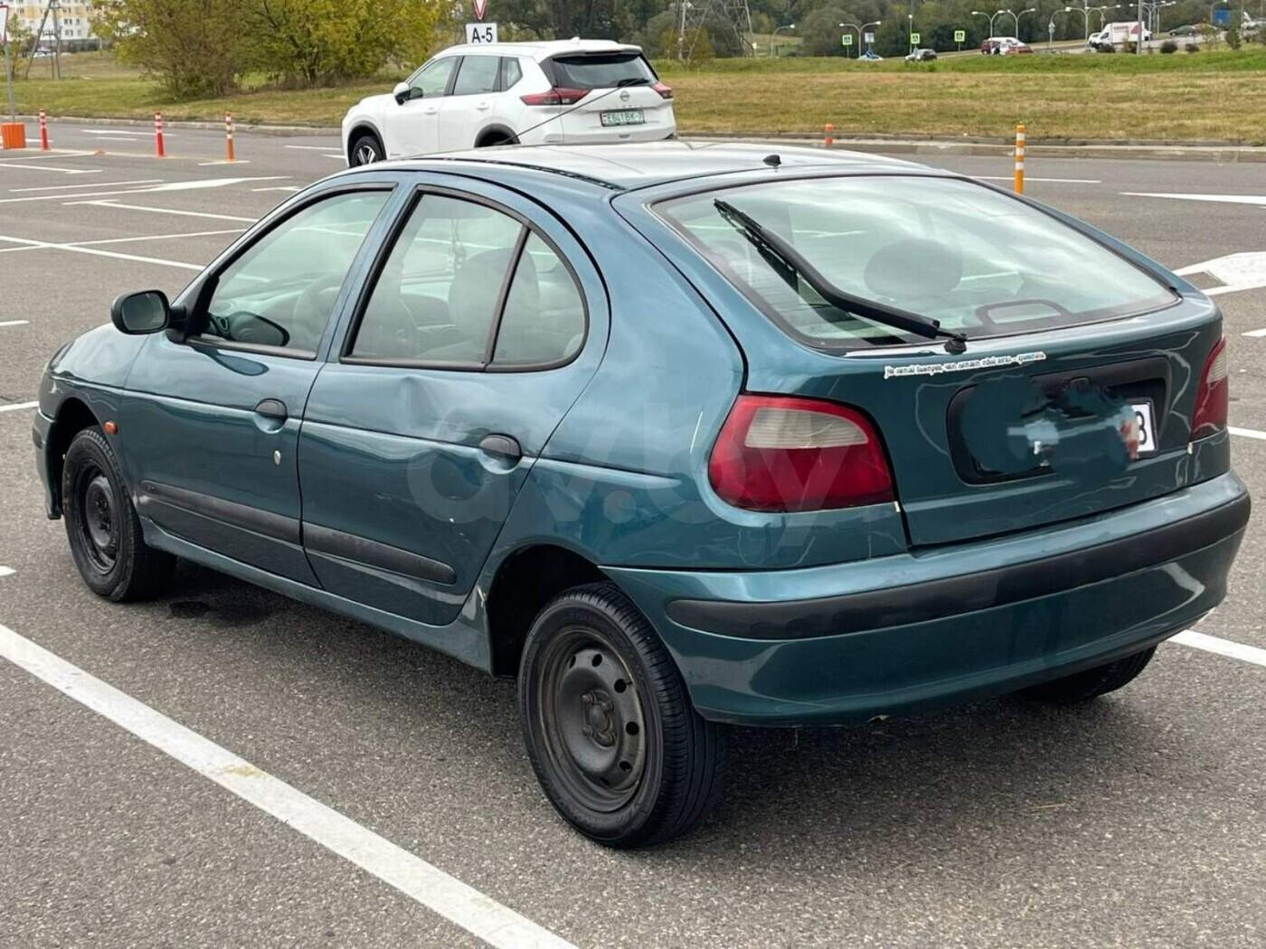Megane_1995-1999: (44, 142, 1254, 844)
